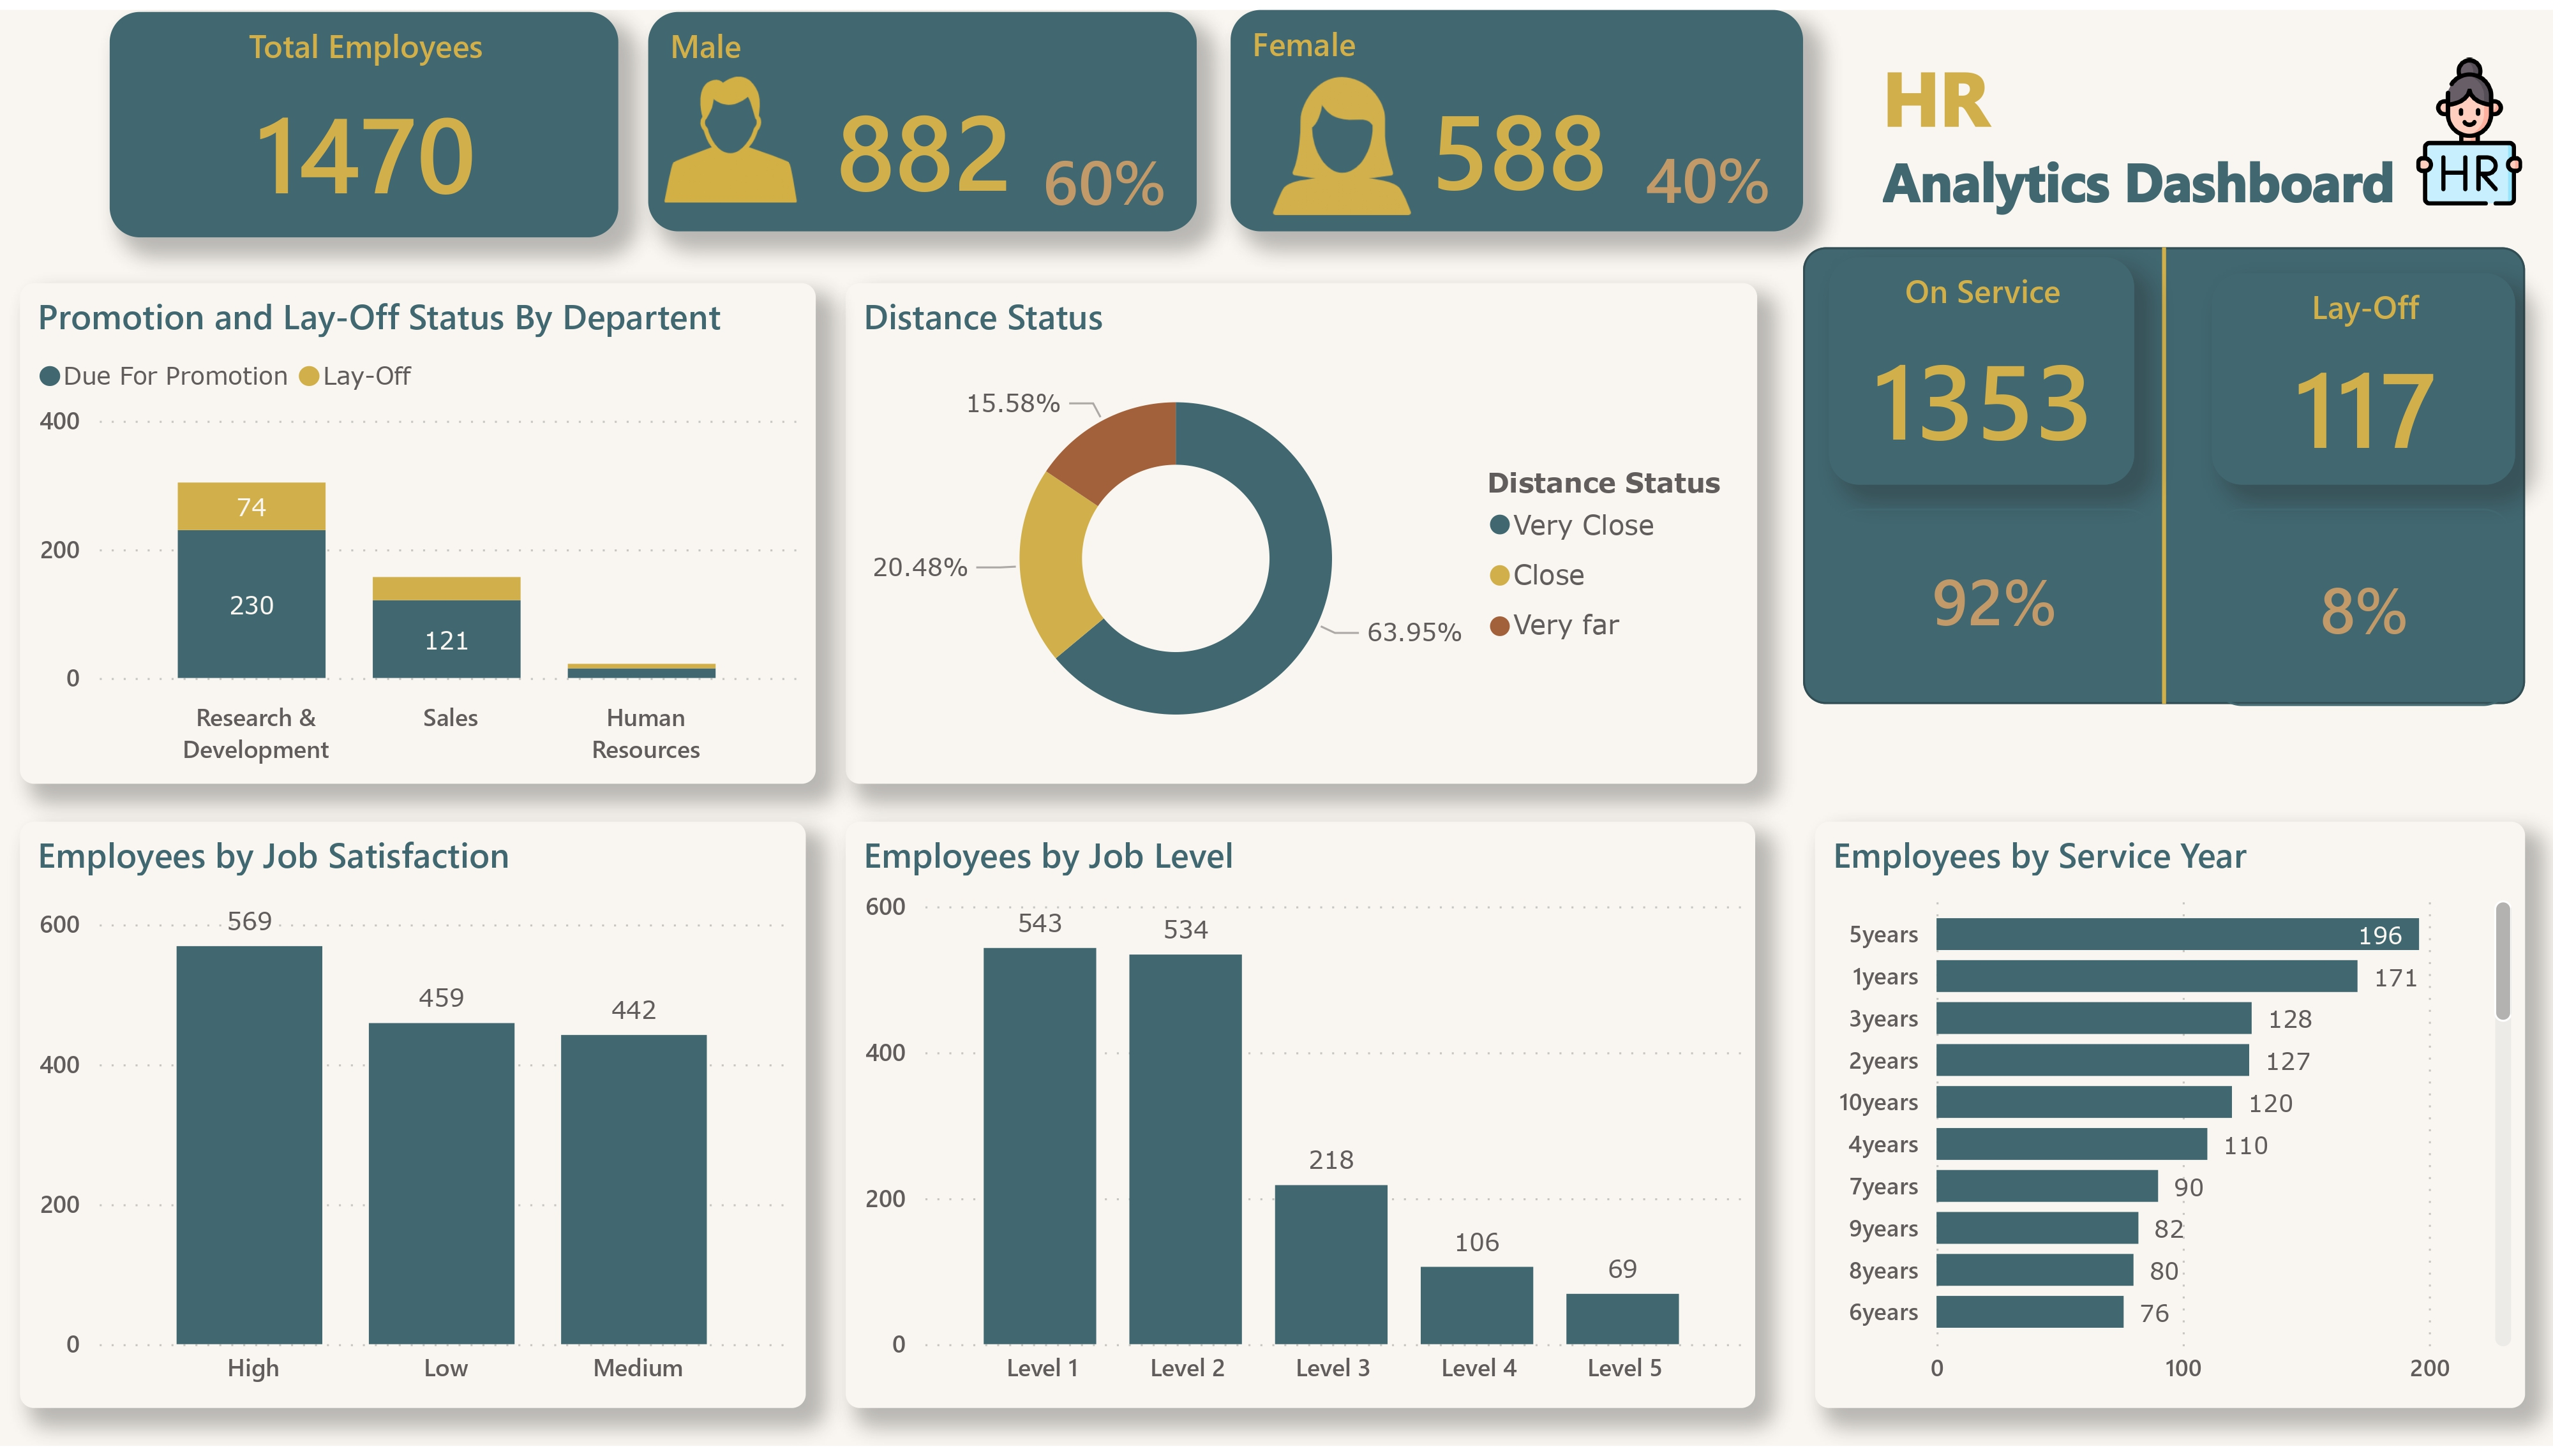

This screenshot's page, from the dashboard's own definition file:
{"tool":"powerbi","page":{"name":"Page 1","canvas":[1280,720],"ordinal":0},"visuals":[{"type":"card","title":"Total Employees","fields":{"Values":["HR Analytics Data.Total Employees"]},"box":[55,1.4,255,112.7],"z":0},{"type":"clusteredBarChart","title":"Employees by Service Year","fields":{"Category":["HR Analytics Data.Service Year"],"Y":["HR Analytics Data.Total Employees"]},"box":[910.2,407.2,356.5,294.5],"z":1000},{"type":"clusteredColumnChart","title":"Employees by Job Level","fields":{"Category":["HR Analytics Data.Job Level"],"Y":["HR Analytics Data.Total Employees"]},"box":[424.4,406.9,456.1,294],"z":2000},{"type":"donutChart","title":"Distance Status","fields":{"Category":["HR Analytics Data.Distance Status"],"Y":["HR Analytics Data.Total Employees"]},"box":[424.1,136.7,456.5,250.8],"z":3000},{"type":"clusteredColumnChart","title":"Employees by Job Satisfaction","fields":{"Y":["HR Analytics Data.Total Employees"],"Category":["HR Analytics Data.New Job Satisfaction"]},"box":[9.5,406.9,394.2,294],"z":4000},{"type":"card","title":"Male","fields":{"Values":["HR Analytics Data.Male"]},"box":[325.5,1.4,274.8,109.9],"z":5000},{"type":"card","fields":{"Values":["HR Analytics Data.% Male"]},"box":[505.8,62,94.4,46.5],"z":6000},{"type":"card","title":"Female","fields":{"Values":["HR Analytics Data.Female"]},"box":[617.1,0,287.4,111.3],"z":7000},{"type":"card","fields":{"Values":["HR Analytics Data.% Female"]},"box":[807.4,60.6,97.2,46.5],"z":8000},{"type":"columnChart","title":"Promotion and Lay-Off Status By Departent","fields":{"Category":["HR Analytics Data.Department"],"Y":["HR Analytics Data.Due For Promotion","HR Analytics Data.Lay-Off"]},"box":[9.9,136.7,398.7,250.8],"z":9000},{"type":"shape","box":[904.4,119.2,362.4,228.9],"z":10000},{"type":"shape","box":[1022,119.2,125.6,228.9],"z":11000},{"type":"card","title":"On Service","fields":{"Values":["HR Analytics Data.On Service"]},"box":[917.1,124,152.6,114.4],"z":12000},{"type":"card","title":"Lay-Off","fields":{"Values":["HR Analytics Data.Lay-Off"]},"box":[1108.9,132.4,152.2,105.7],"z":13000},{"type":"card","fields":{"Values":["HR Analytics Data.% On Service"]},"box":[917.1,249.5,163.7,90.6],"z":14000},{"type":"card","fields":{"Values":["HR Analytics Data.% Lay Off"]},"box":[1109.4,249.5,151,98.5],"z":15000},{"type":"textbox","box":[939.3,12.7,327.4,97],"z":16000},{"type":"image","box":[325.5,18.3,83.1,94.4],"z":17000},{"type":"image","box":[629.8,25.4,85.9,85.9],"z":18000},{"type":"image","box":[1196.3,18.7,84.3,84.3],"z":19000}]}

Visuals, with their boxes in screenshot pixels (x1, y1, x2, y2), scaled from the page's 1280x720 canvas onto the 2553x1456 screenshot:
"Total Employees" card: box(110, 3, 618, 231)
"Employees by Service Year" clusteredBarChart: box(1815, 824, 2526, 1419)
"Employees by Job Level" clusteredColumnChart: box(846, 823, 1756, 1417)
"Distance Status" donutChart: box(846, 276, 1756, 784)
"Employees by Job Satisfaction" clusteredColumnChart: box(19, 823, 805, 1417)
"Male" card: box(649, 3, 1197, 225)
card - HR Analytics Data.% Male: box(1009, 126, 1197, 219)
"Female" card: box(1231, 0, 1804, 225)
card - HR Analytics Data.% Female: box(1610, 123, 1804, 216)
"Promotion and Lay-Off Status By Departent" columnChart: box(20, 276, 815, 784)
shape: box(1804, 241, 2527, 704)
shape: box(2039, 241, 2289, 704)
"On Service" card: box(1829, 251, 2134, 482)
"Lay-Off" card: box(2212, 268, 2515, 482)
card - HR Analytics Data.% On Service: box(1829, 505, 2156, 688)
card - HR Analytics Data.% Lay Off: box(2213, 505, 2514, 704)
textbox: box(1873, 26, 2526, 222)
image: box(649, 37, 815, 228)
image: box(1256, 52, 1428, 225)
image: box(2386, 38, 2552, 208)
